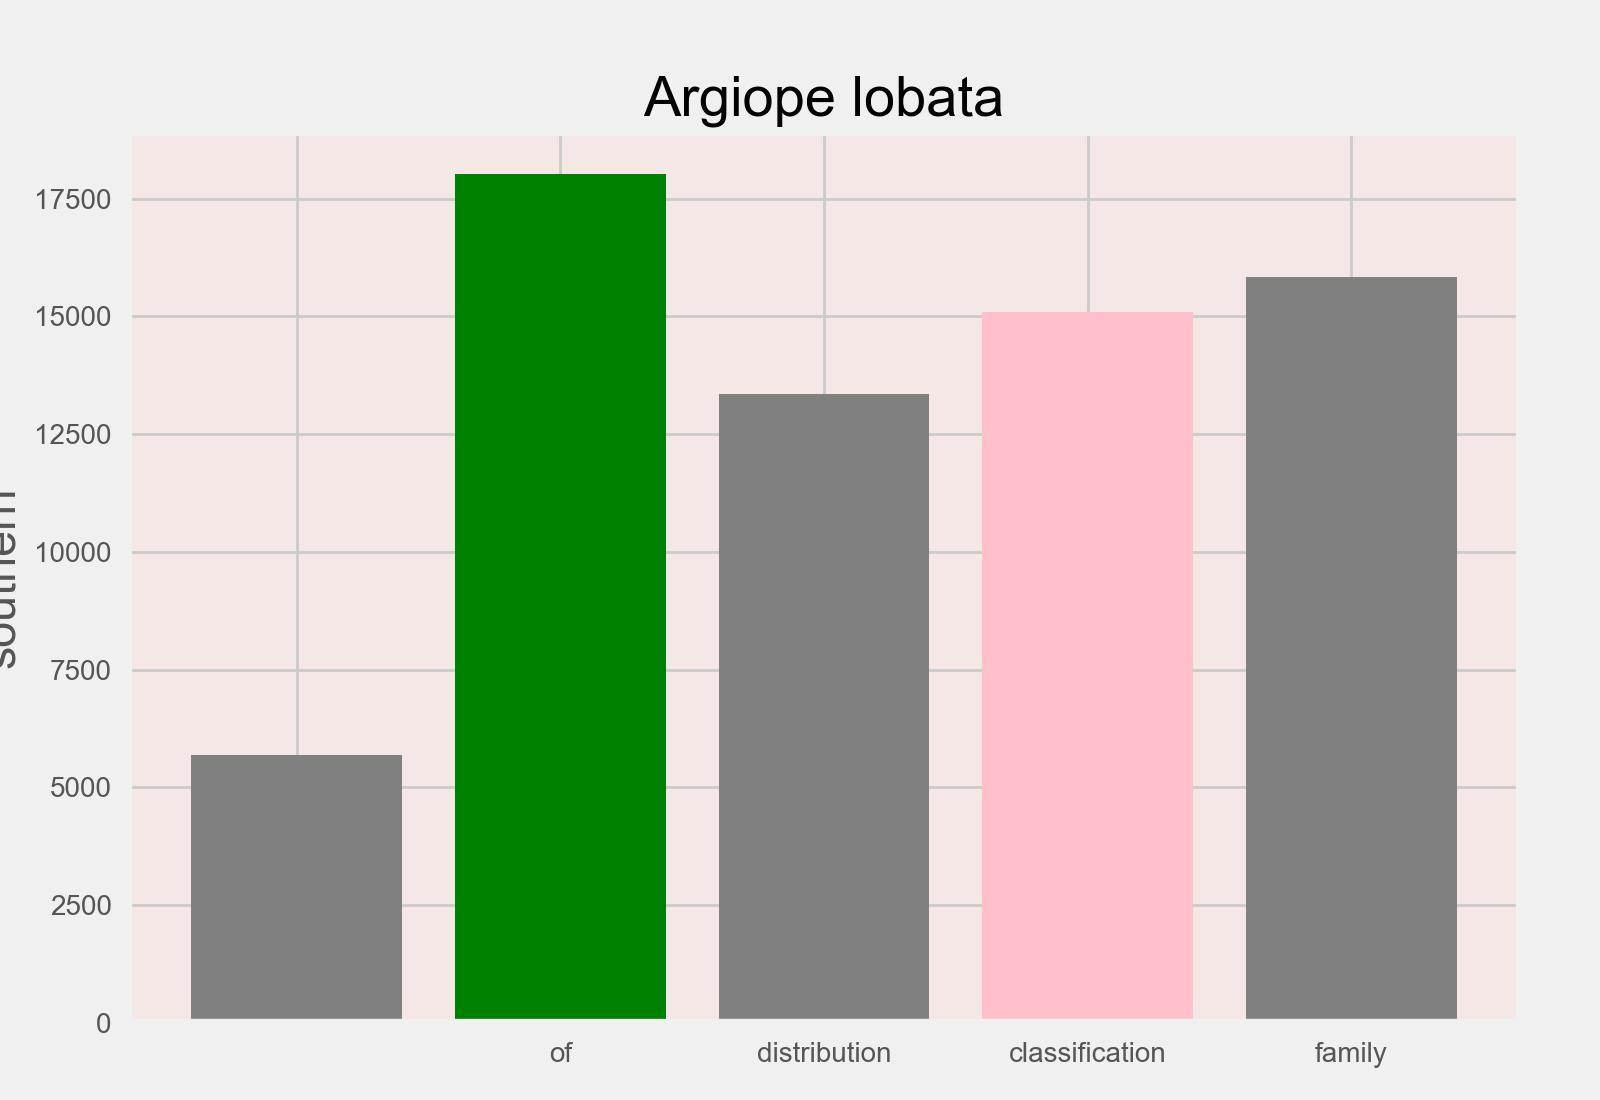axis: (0, 188, 112, 1039)
rectangle: (455, 174, 666, 1023), (1246, 277, 1457, 1023), (982, 312, 1193, 1023), (719, 394, 930, 1023), (191, 755, 402, 1023)
